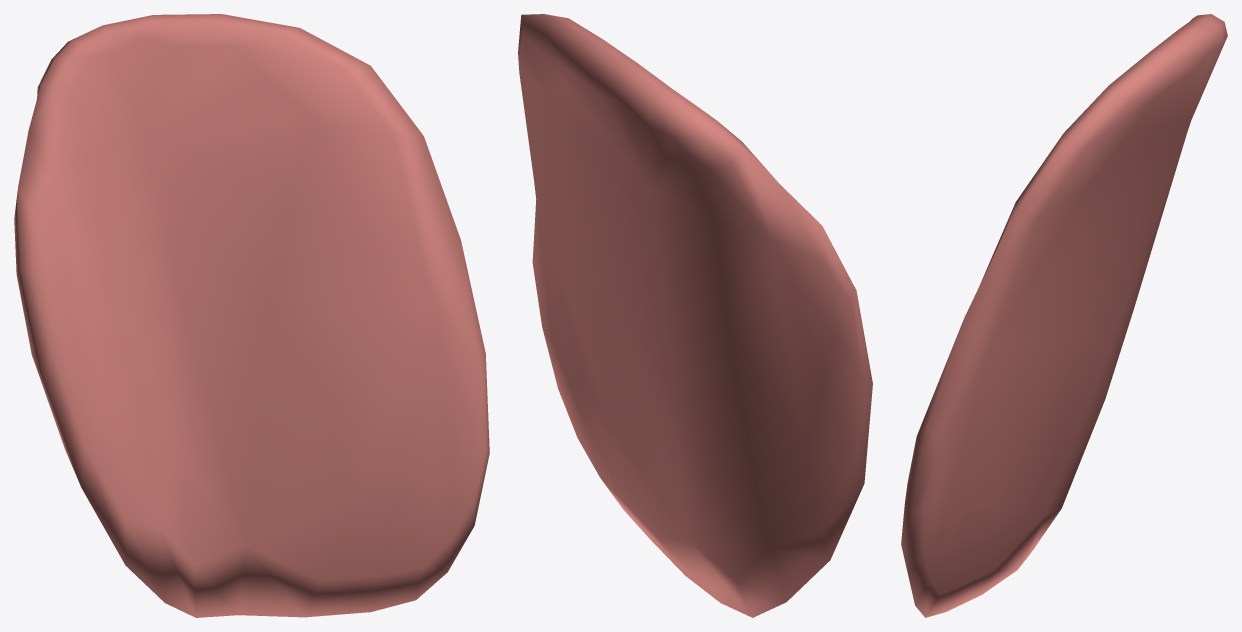
The picture shows the model from 3 angles, left to right: view 1: azimuth 30°, elevation 25°; view 2: azimuth 150°, elevation 25°; view 3: azimuth 270°, elevation 25°; orthographic projection. The views are drawn at different scales.
Parts seen in each view (by area): view 1: ZA_c9fcb94b04129d70; view 2: ZA_c9fcb94b04129d70; view 3: ZA_c9fcb94b04129d70.
Part boxes in pixels (bbox=[...]): ZA_c9fcb94b04129d70: bbox=[14, 14, 489, 617]; ZA_c9fcb94b04129d70: bbox=[518, 14, 872, 617]; ZA_c9fcb94b04129d70: bbox=[901, 14, 1227, 617].
Bounding box in the file's own units: 0.00501 × 0.00691 × 0.00379.
